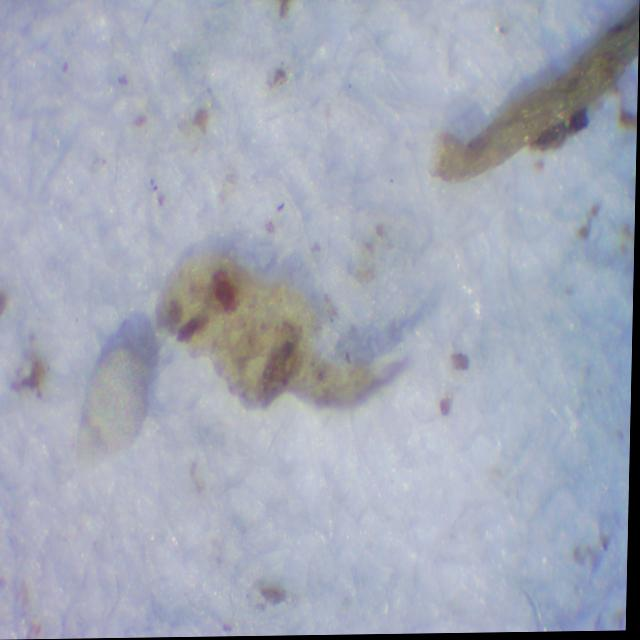microplastic: (155, 248, 391, 416)
